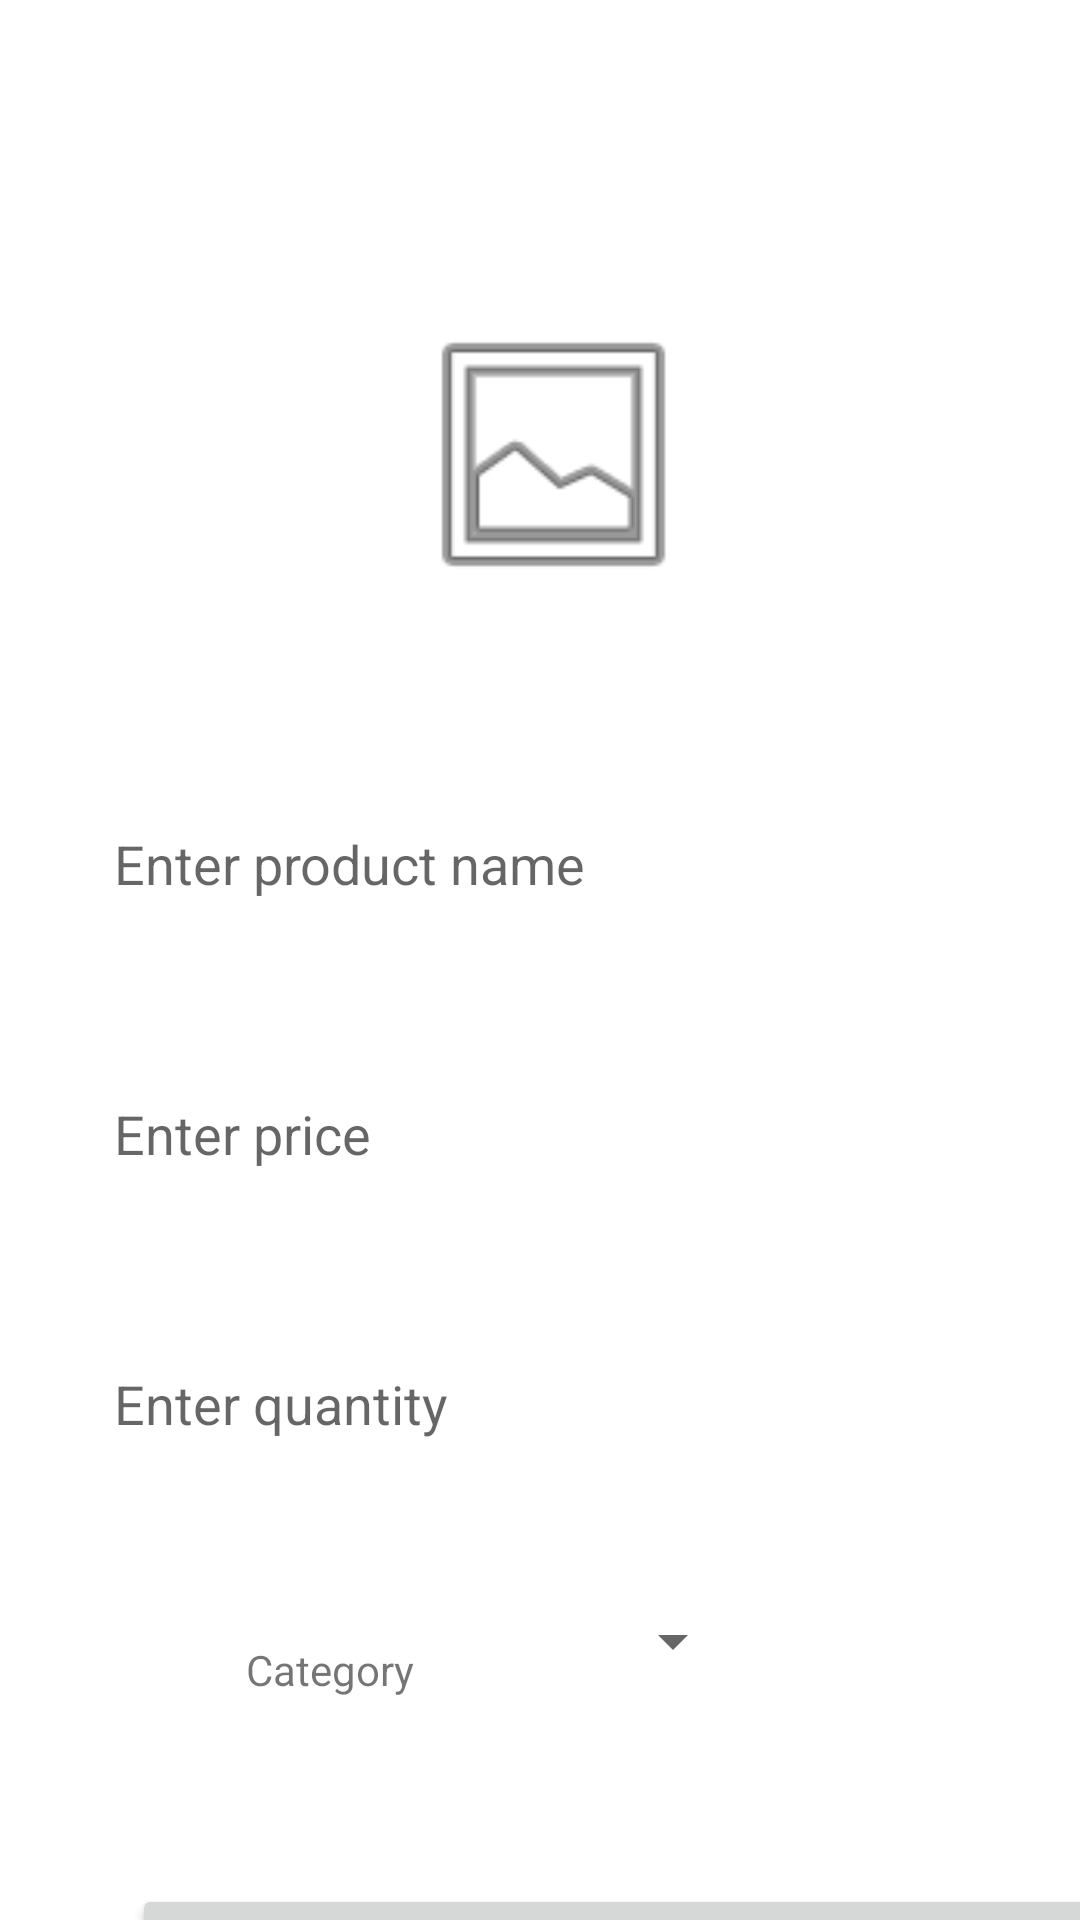

Where to tap for icons on this 1080 x 1920 app screen, as (x,y):
gallery: (553,454)
